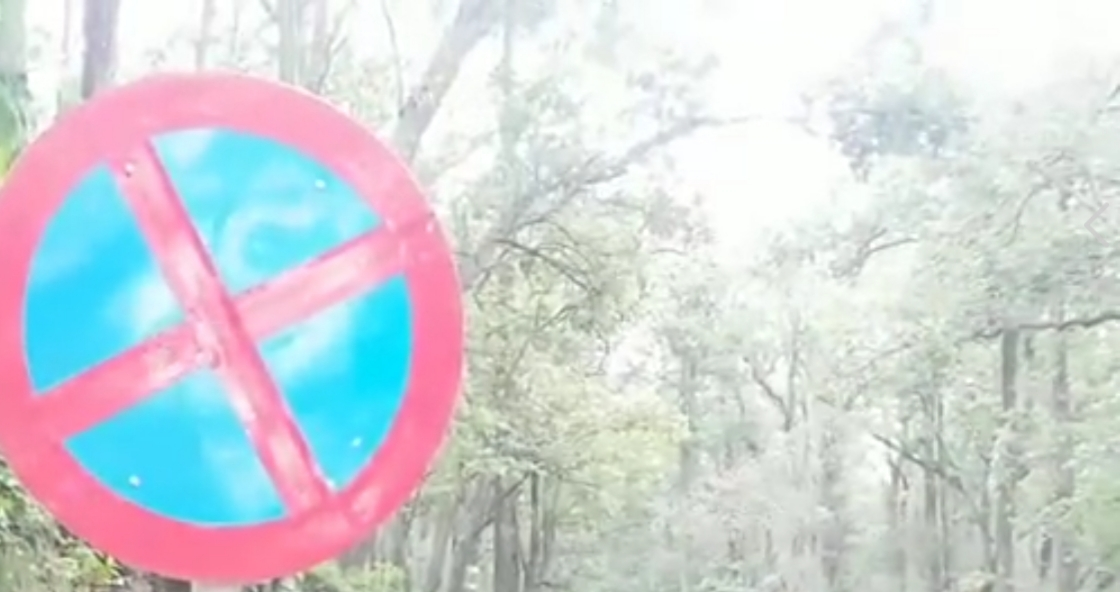traffic_sign: (0, 69, 465, 592)
